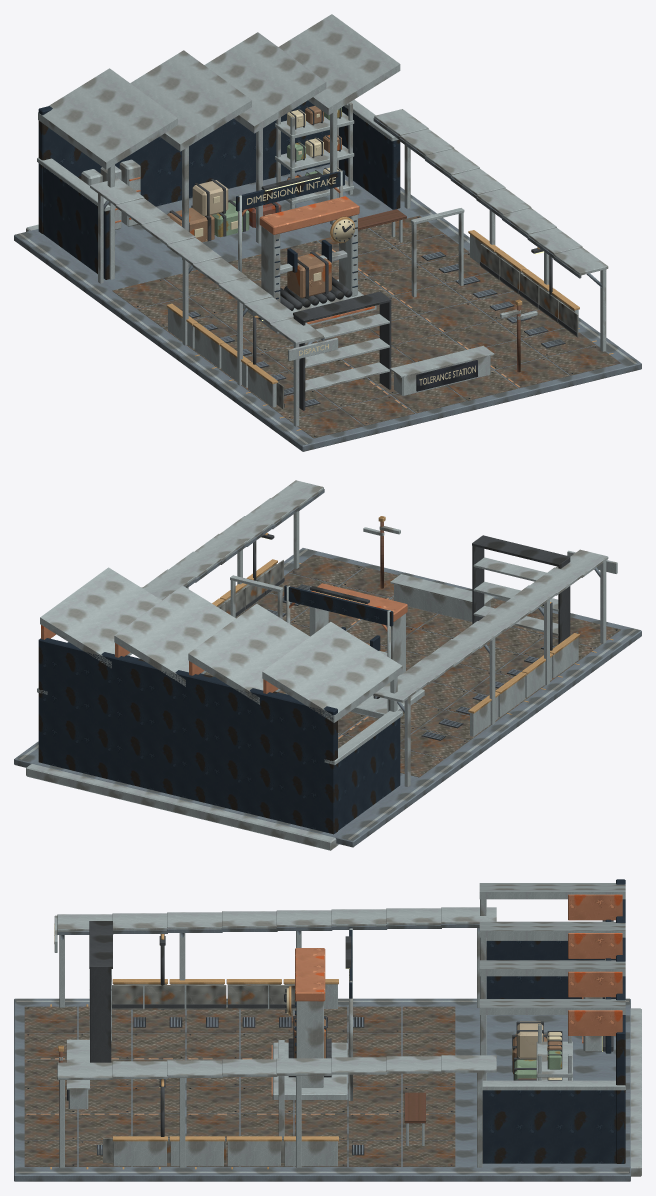
Rendered from calibration-spire-depot.glb.
3 views of the same model, one above another, from view 1: azimuth 30°, elevation 25°; view 2: azimuth 150°, elevation 25°; view 3: azimuth 270°, elevation 25° (orthographic). The views are drawn at different scales.
Visible parts, largest first — view 1: calibration-spire-depot; view 2: calibration-spire-depot; view 3: calibration-spire-depot.
Boxes of the visible parts, <box> form: calibration-spire-depot: <box>14,14,641,451</box>; calibration-spire-depot: <box>14,480,641,850</box>; calibration-spire-depot: <box>14,879,641,1181</box>.
Size of the model in its own units: 16.9 by 7.43 by 25.34.
19 materials, 17 textured.
